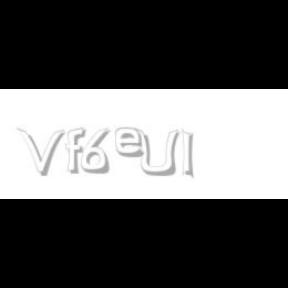6: (80, 128, 110, 176)
I: (182, 128, 194, 180)
U: (134, 128, 178, 178)
V: (17, 128, 65, 176)
e: (115, 128, 148, 158)
f: (66, 128, 90, 174)
